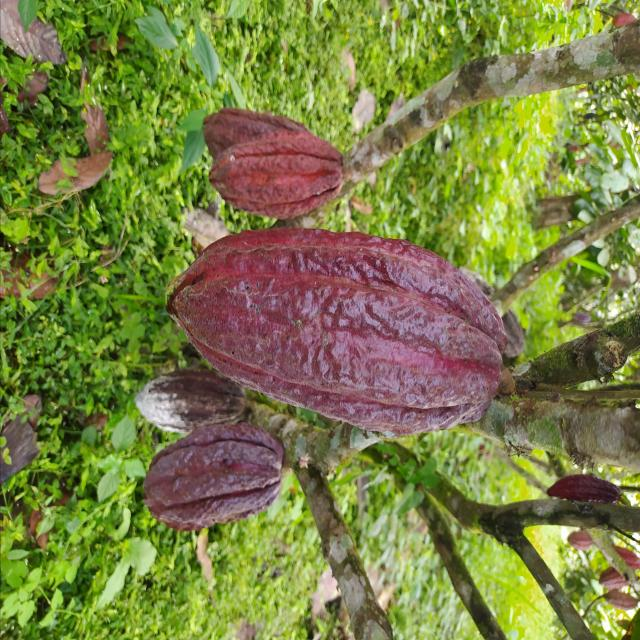Monilia: (133, 372, 247, 434)
Sana: (166, 229, 505, 435), (144, 427, 282, 530), (207, 131, 343, 221), (202, 107, 312, 165), (546, 472, 624, 509), (608, 545, 640, 570), (603, 590, 638, 610), (598, 567, 627, 589), (567, 532, 593, 550)
